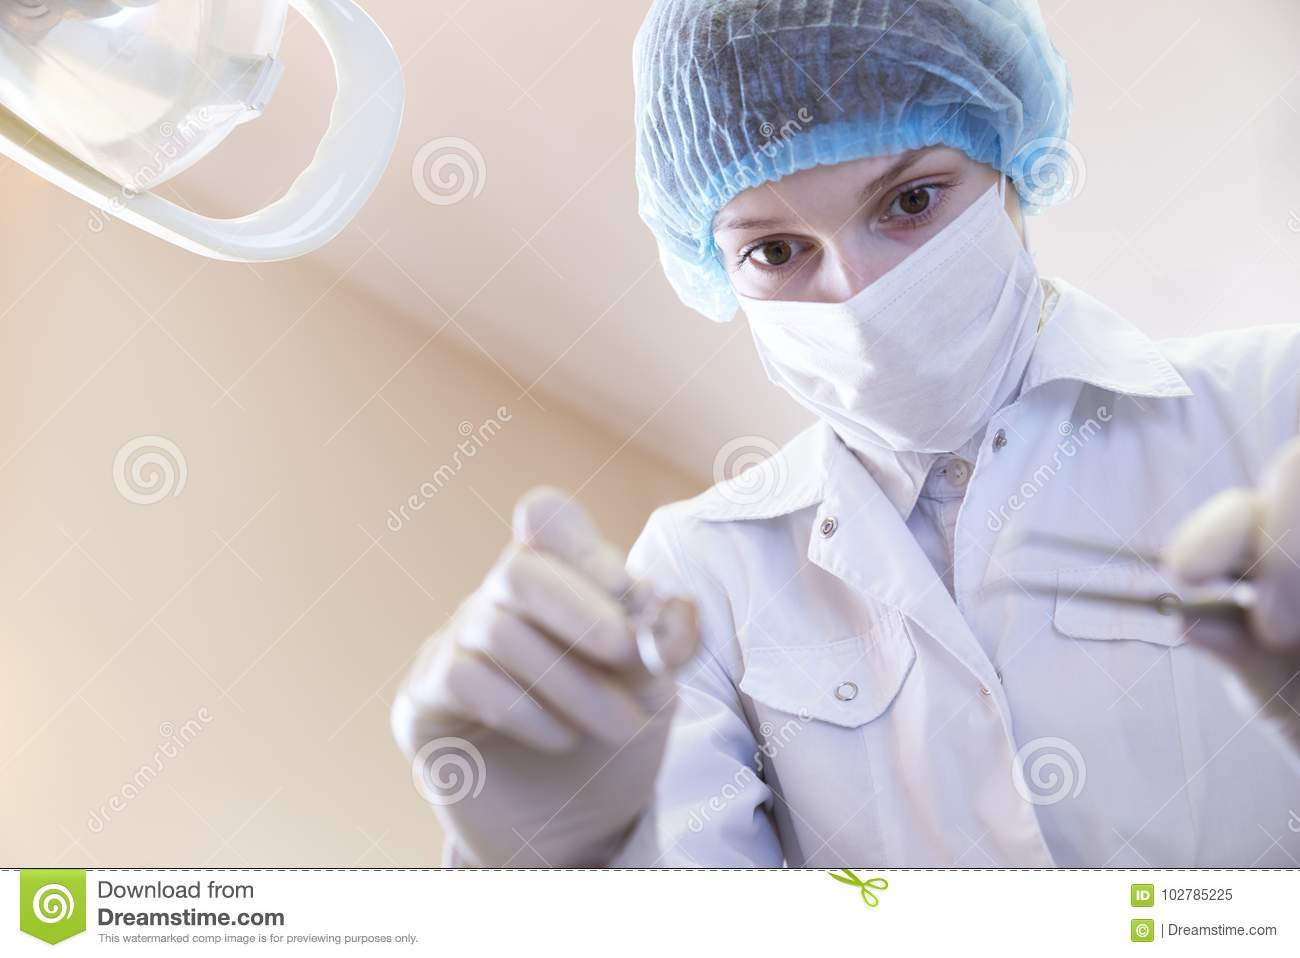mask: (698, 203, 1069, 474)
